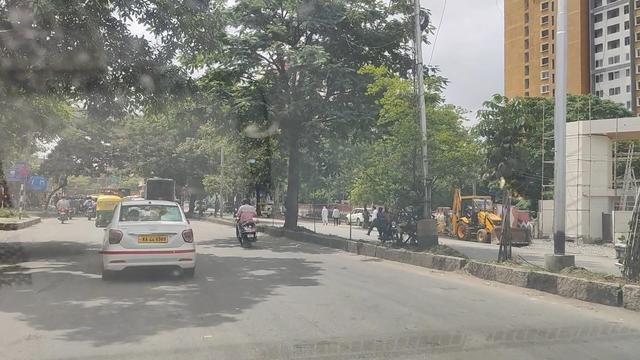LMV: (108, 202, 200, 277), (235, 191, 261, 248)
